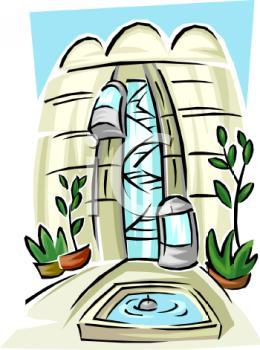pottedplant: (200, 124, 257, 292), (56, 172, 91, 273), (23, 223, 69, 279)
